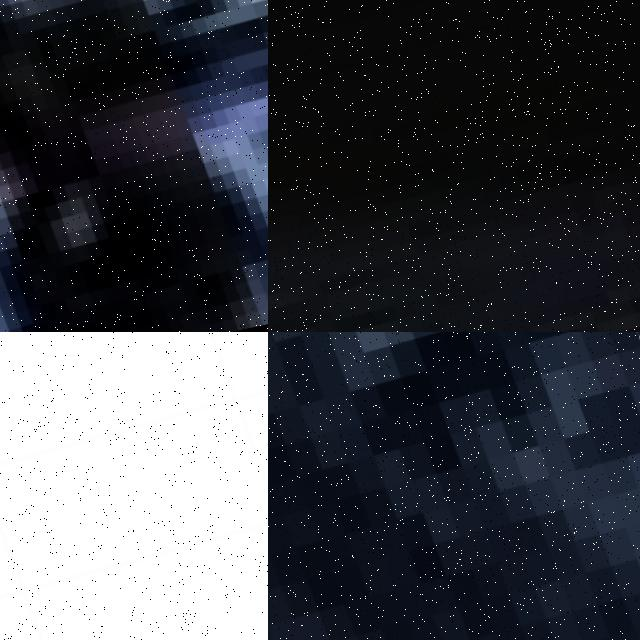0: (0, 0, 268, 332)
drone: (268, 0, 640, 332), (268, 332, 640, 640), (0, 332, 268, 640)
